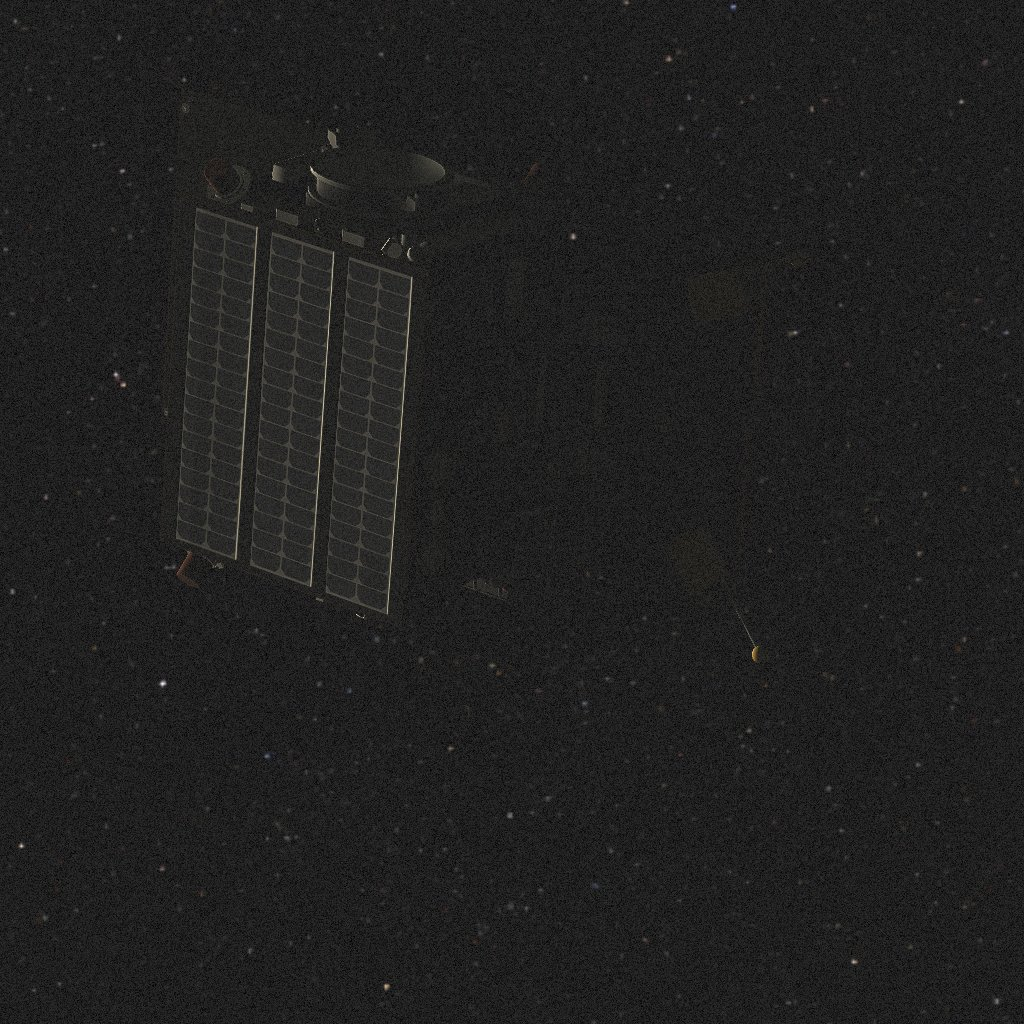proba_2: (160, 87, 809, 663)
